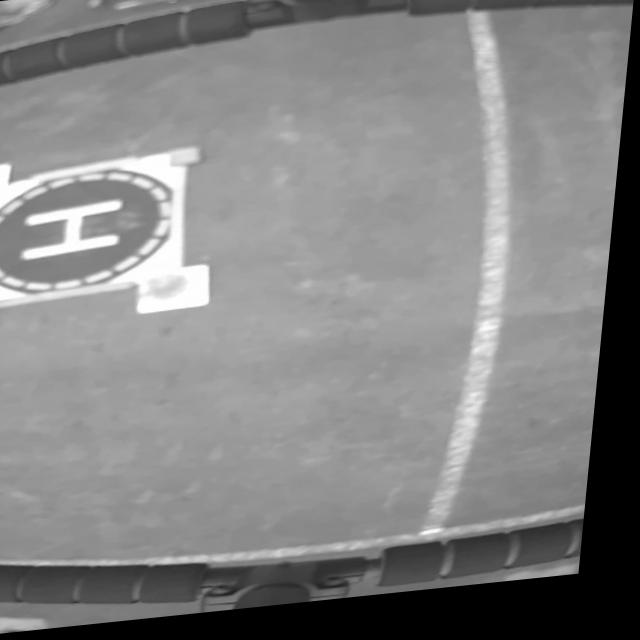Helipad: (25, 200, 128, 262)
